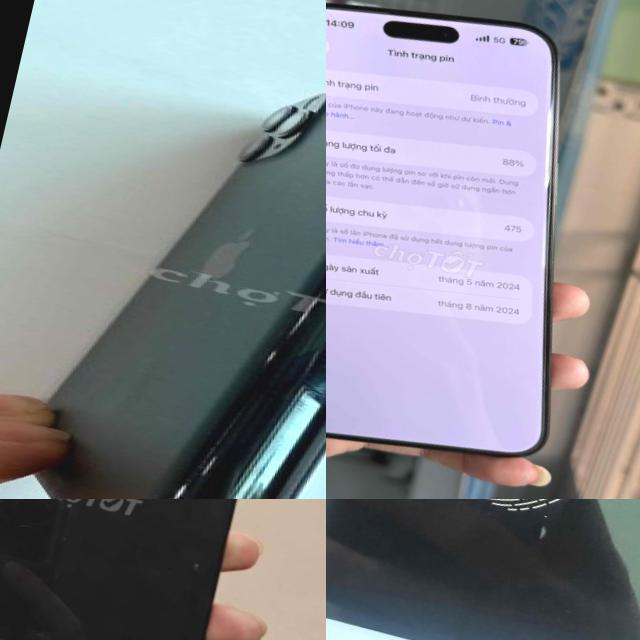gen_15: (326, 0, 640, 499)
gen_7_8: (326, 499, 640, 640)
gen_x_xs: (0, 499, 297, 640)
